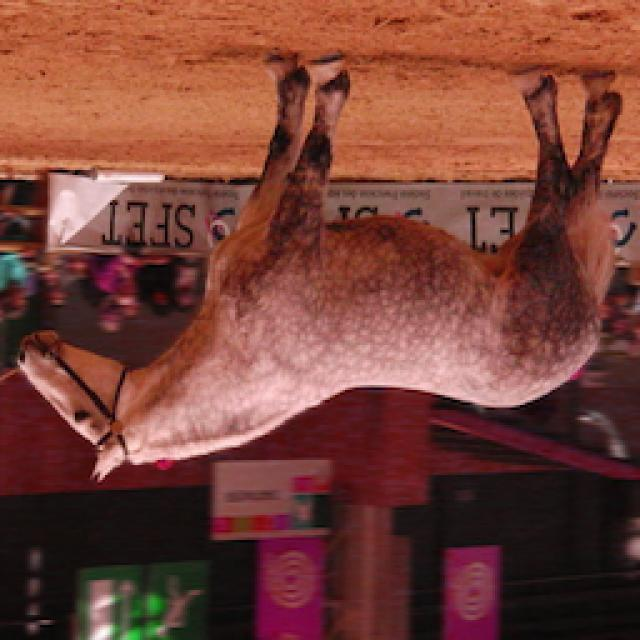Horse: (10, 48, 632, 490)
